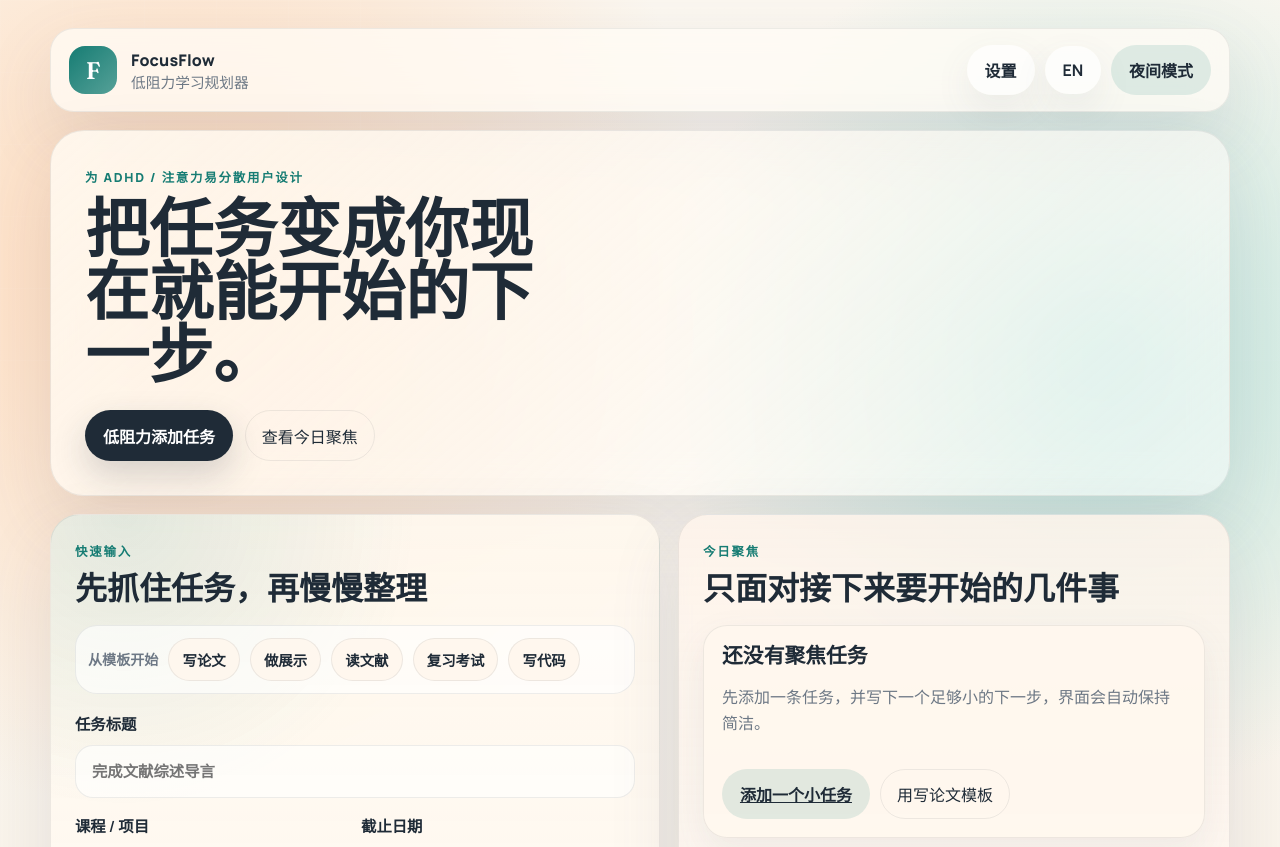
Test: renders bilingual planner UI and switches to English
Check: the heading "把任务变成你现在就能开始的下一步。" is shown, box [85,198,560,386]
Click the button with aria-label "toggle language".
click(1073, 70)  # box [1044,46,1101,94]
(page scrolled)
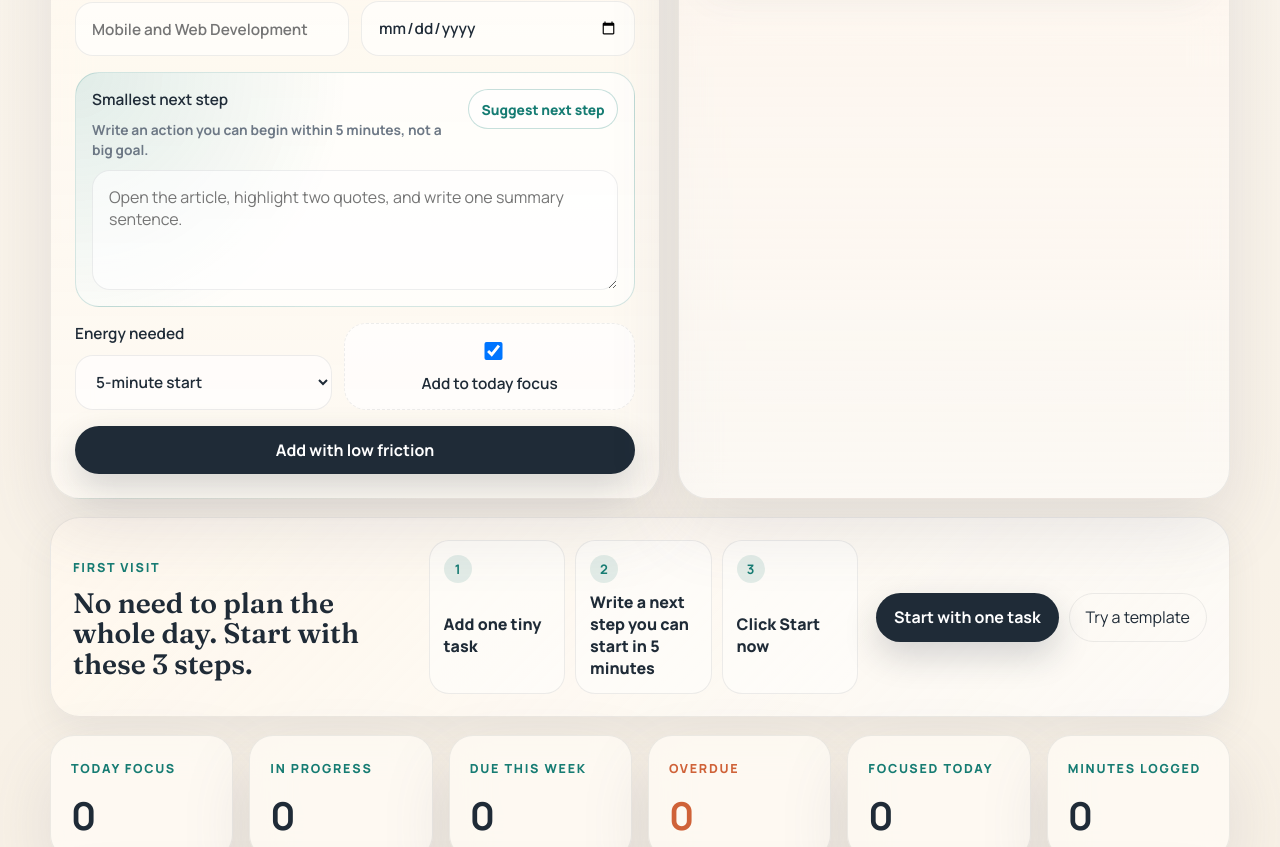
Check: the button "Add with low friction" is shown, box [75,426,635,474]
